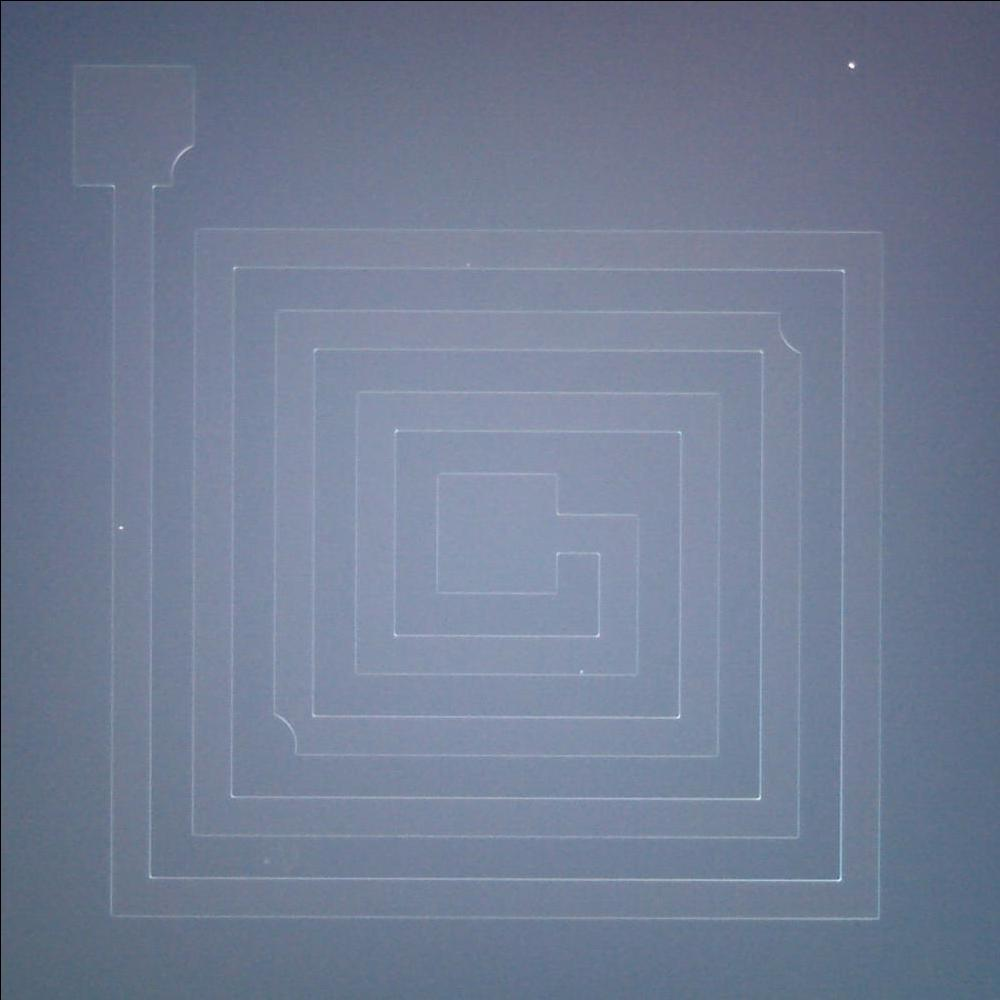curve circuit: (263, 706, 306, 773), (158, 140, 210, 193), (769, 300, 813, 361)
dot: (832, 48, 867, 82), (108, 514, 134, 540)
